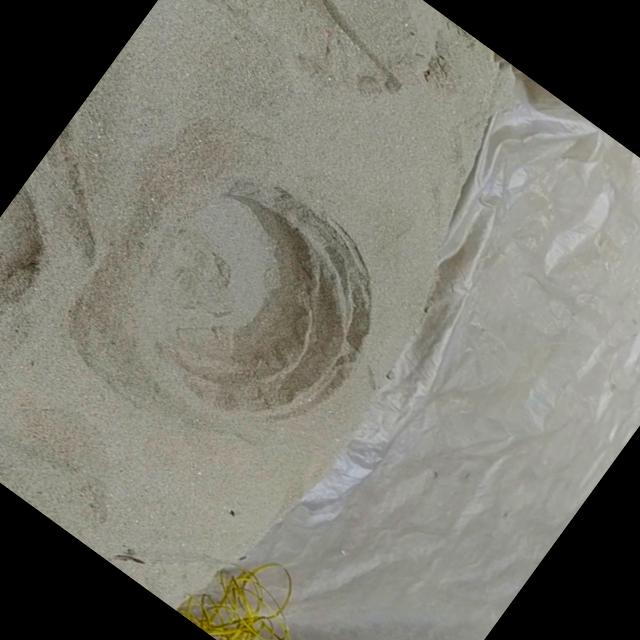C20: (148, 187, 369, 409)
